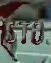Stop: (2, 2, 46, 57)
